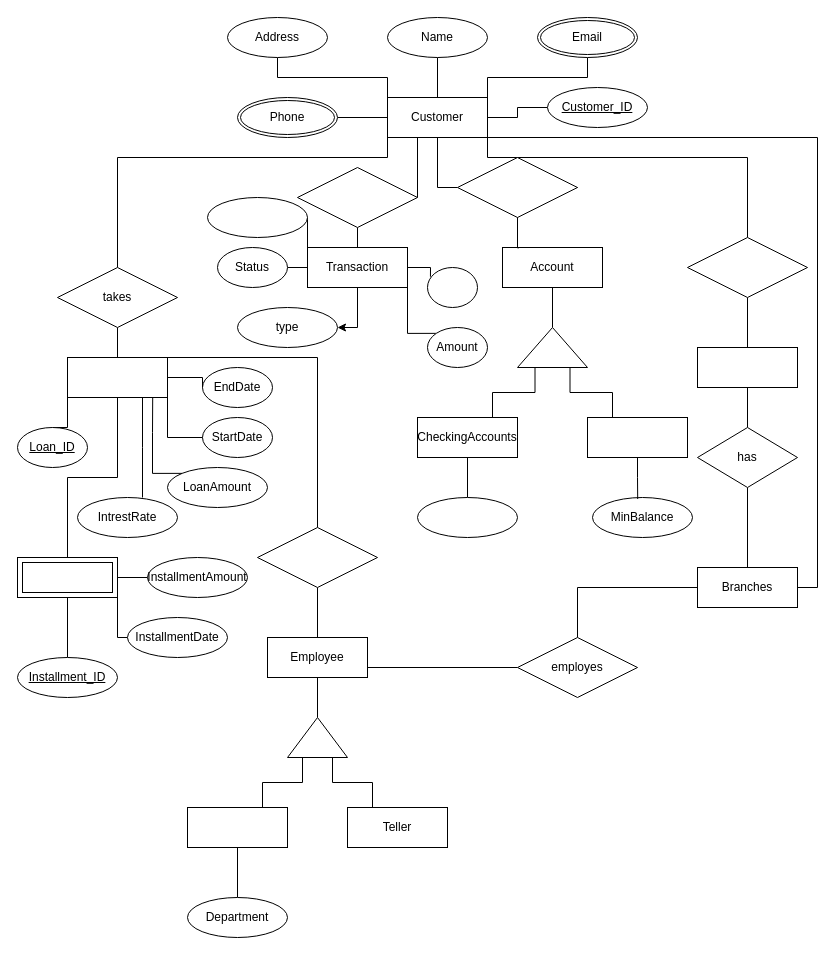
This 836x955 diagram has some shape labels left out. Each missing label, with the box of its shape:
Bank: (696, 346, 798, 388)
Date: (426, 266, 478, 308)
Enrolls: (686, 236, 808, 298)
Entertained by: (256, 526, 378, 588)
is a: (286, 716, 348, 758)
Loan: (66, 356, 168, 398)
Loan Repayment: (16, 556, 118, 598)
makes: (296, 166, 418, 228)
Manager: (186, 806, 288, 848)
OverdraftLimit: (416, 496, 518, 538)
Owns: (456, 156, 578, 218)
SavingsAccount: (586, 416, 688, 458)
Transaction_ID: (206, 196, 308, 238)
type is: (516, 326, 588, 368)
